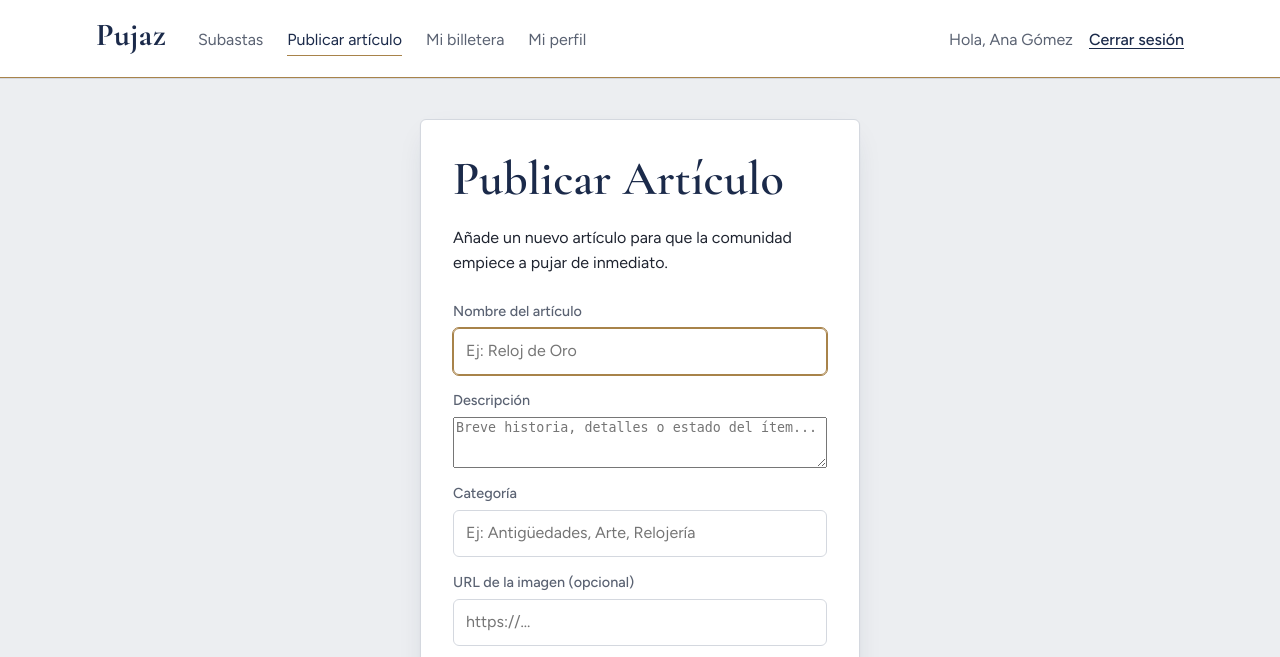
Test case: PublicarPage › muestra el error del servidor y se queda en el formulario
Expected: the heading "Publicar Artículo" is shown, top-left (453, 152), bottom-right (827, 207)
Type "Lámpara de bronce" into the field labelled "Nombre del artículo" at coordinates (640, 351), box top-left (453, 328), bottom-right (827, 375)
(page scrolled)
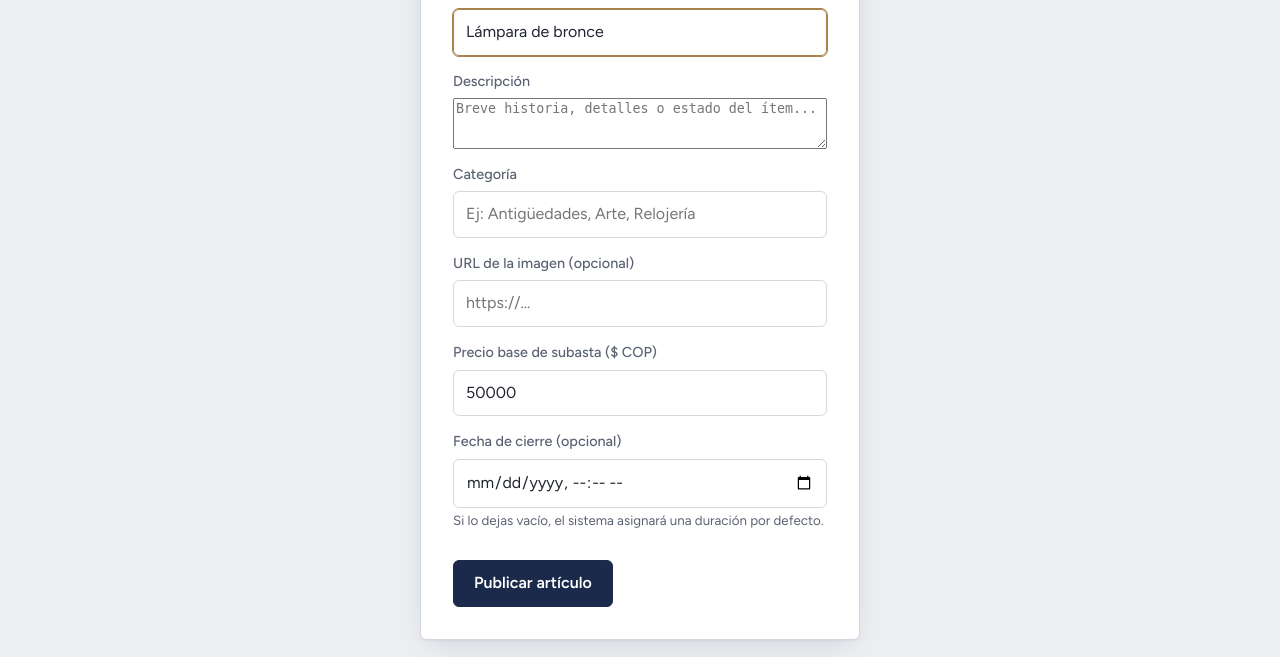
Replace the text in the number field labelled "Precio base de subasta ($ COP)" with "80000" at coordinates (640, 393), box top-left (453, 370), bottom-right (827, 416)
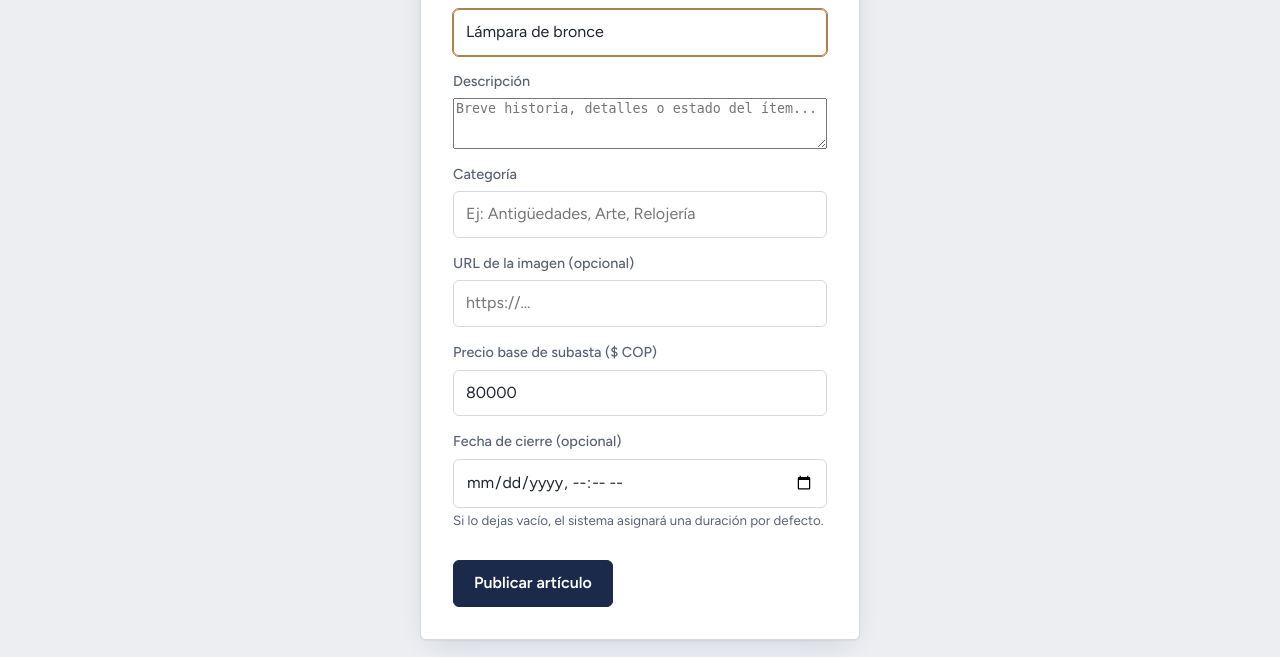
Click the button "Publicar artículo" at coordinates (533, 584), box top-left (453, 560), bottom-right (613, 607)
(page scrolled)
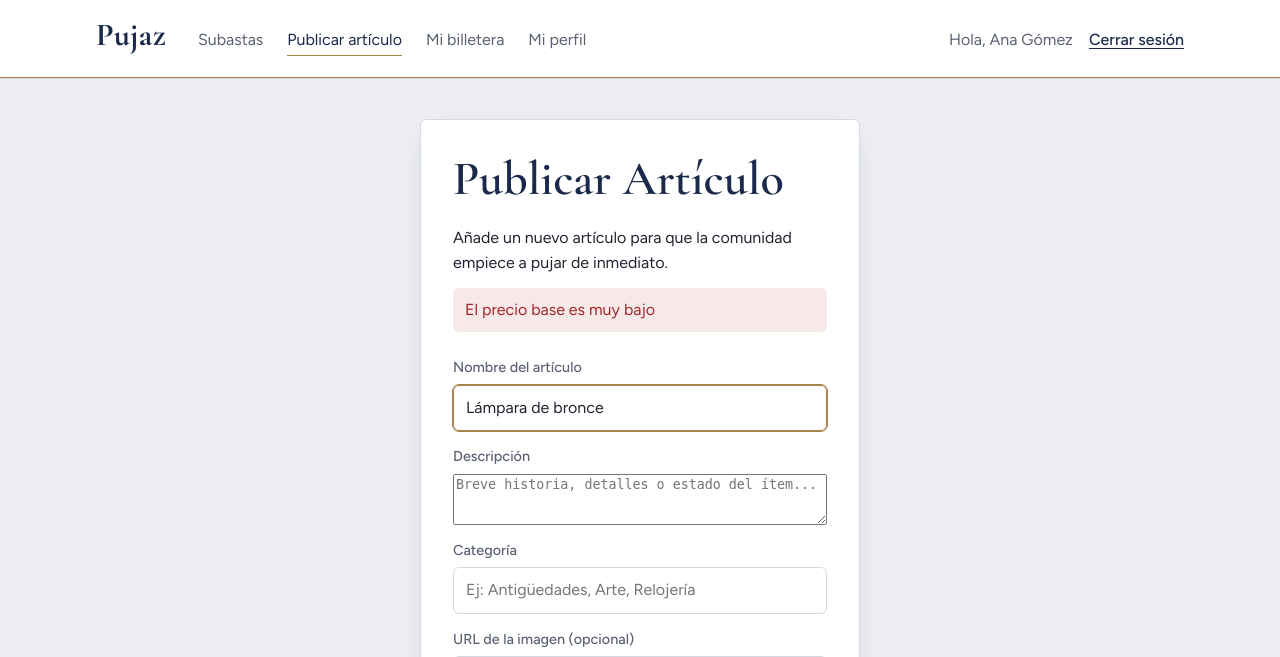
Expected: the heading "Publicar Artículo" is shown, top-left (453, 152), bottom-right (827, 207)
Expected: the text "El precio base es muy bajo" is shown, top-left (453, 288), bottom-right (827, 332)
